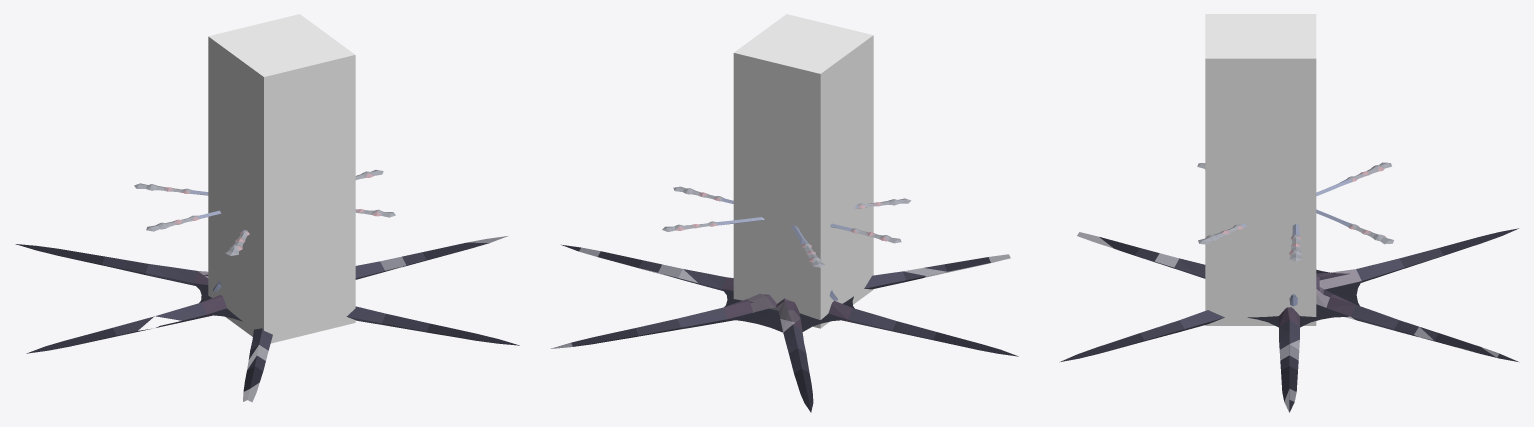
Rendered from the-whisperer.gltf.
The picture shows the model from 3 angles, left to right: view 1: azimuth 30°, elevation 25°; view 2: azimuth 150°, elevation 25°; view 3: azimuth 270°, elevation 25°; orthographic projection. The views are drawn at different scales.
Bounding box in the file's own units: 846 × 448 × 700.
Materials: 2 (2 with a texture image).
